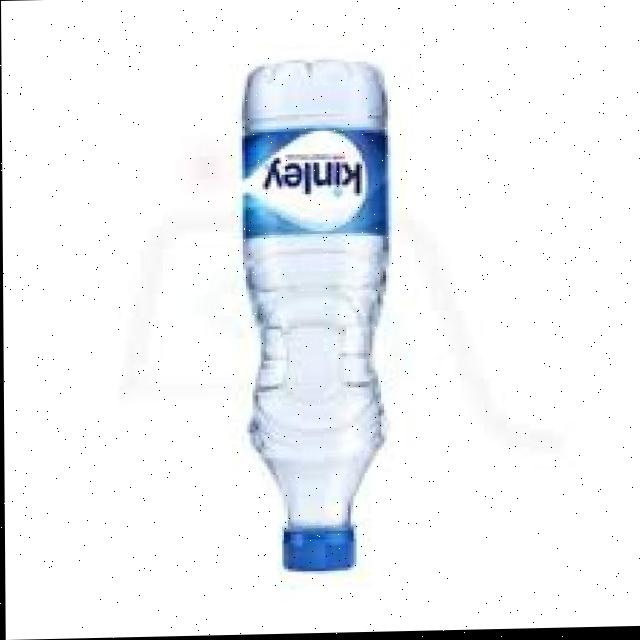bottle: (197, 45, 438, 586)
